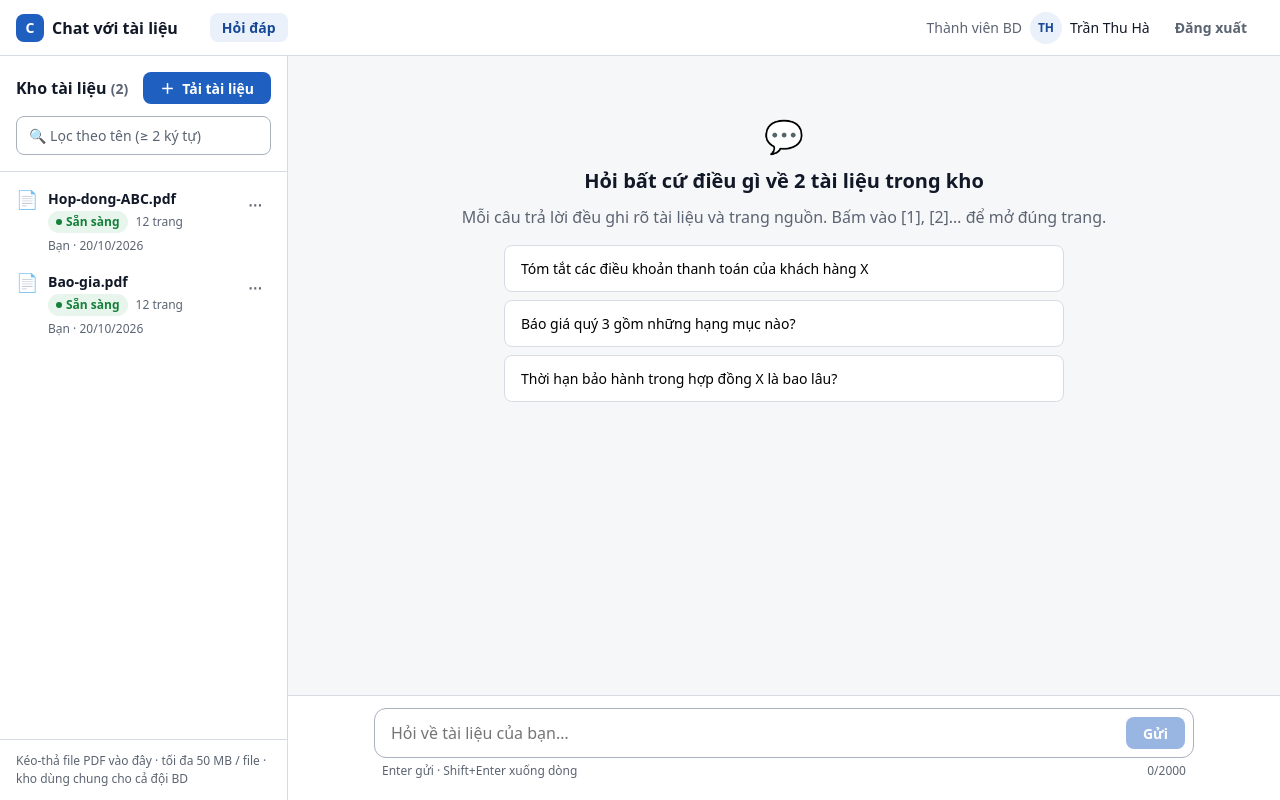
US-307 / US-309 copy and feedback › copies the answer with its sources; a blocked clipboard asks to copy by hand (AC-307.1, AC-307.2)
This screenshot has width=1280, height=800.
Type "Thanh toán?" into the text box named "Câu hỏi về tài liệu".
click(750, 733); type("Thanh toán?")  # box [383,717,1118,749]
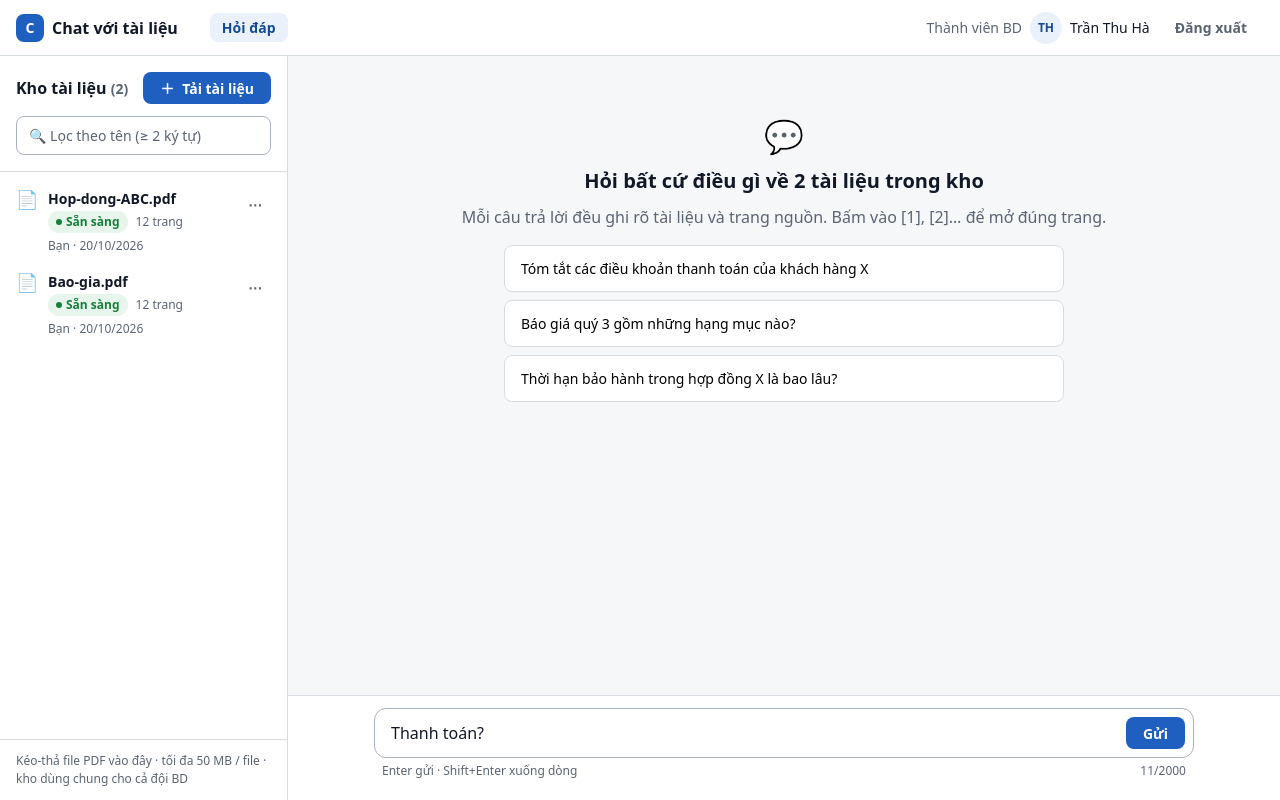
Press Enter in the text box named "Câu hỏi về tài liệu", box [383,717,1118,749]
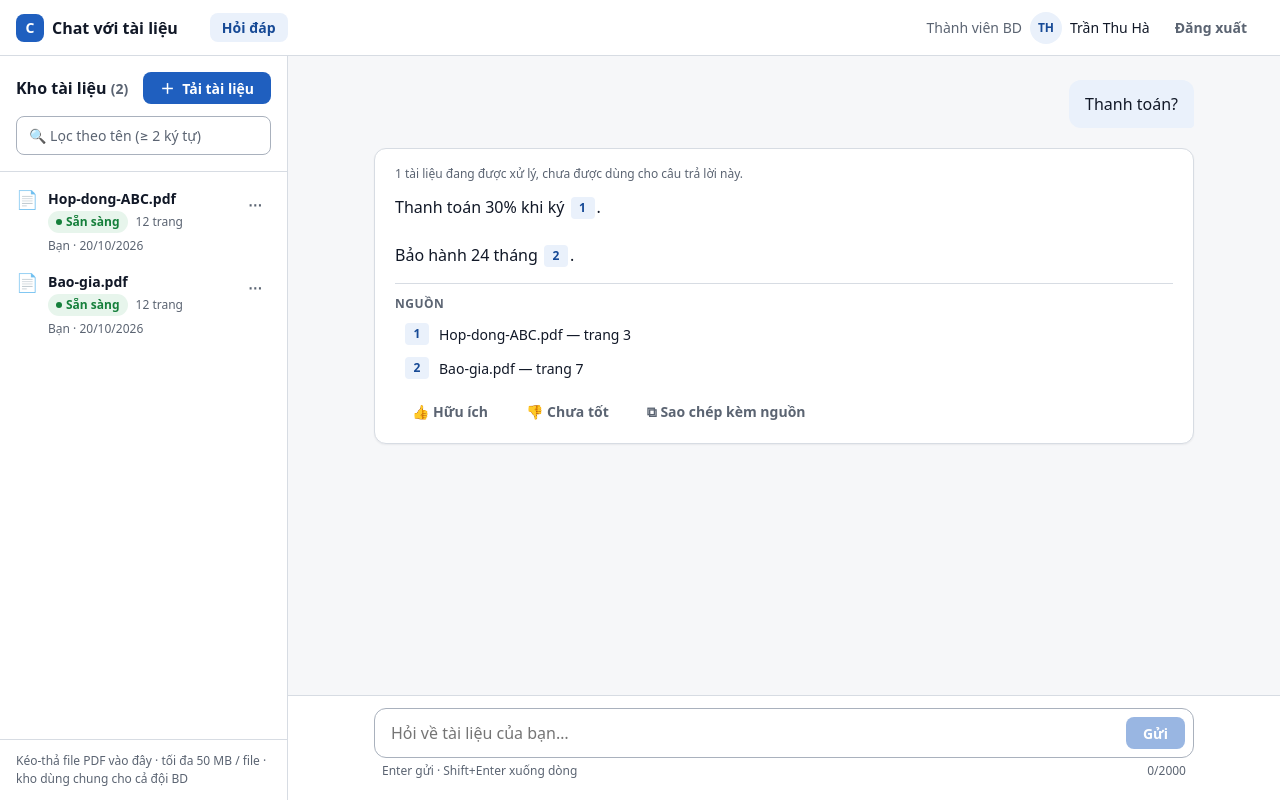
Click the button "⧉ Sao chép kèm nguồn".
click(726, 411)  # box [630,395,823,427]
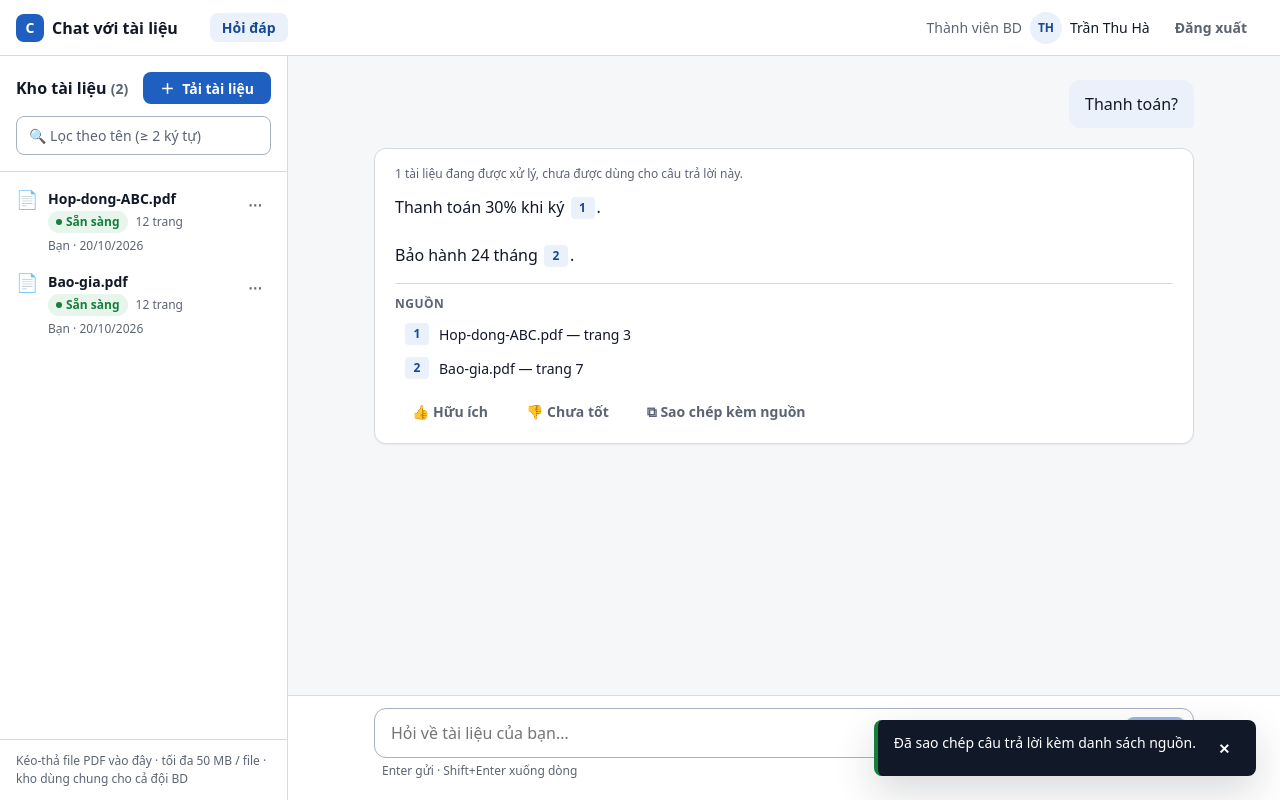
Click the button "⧉ Sao chép kèm nguồn".
click(726, 411)  # box [630,395,823,427]
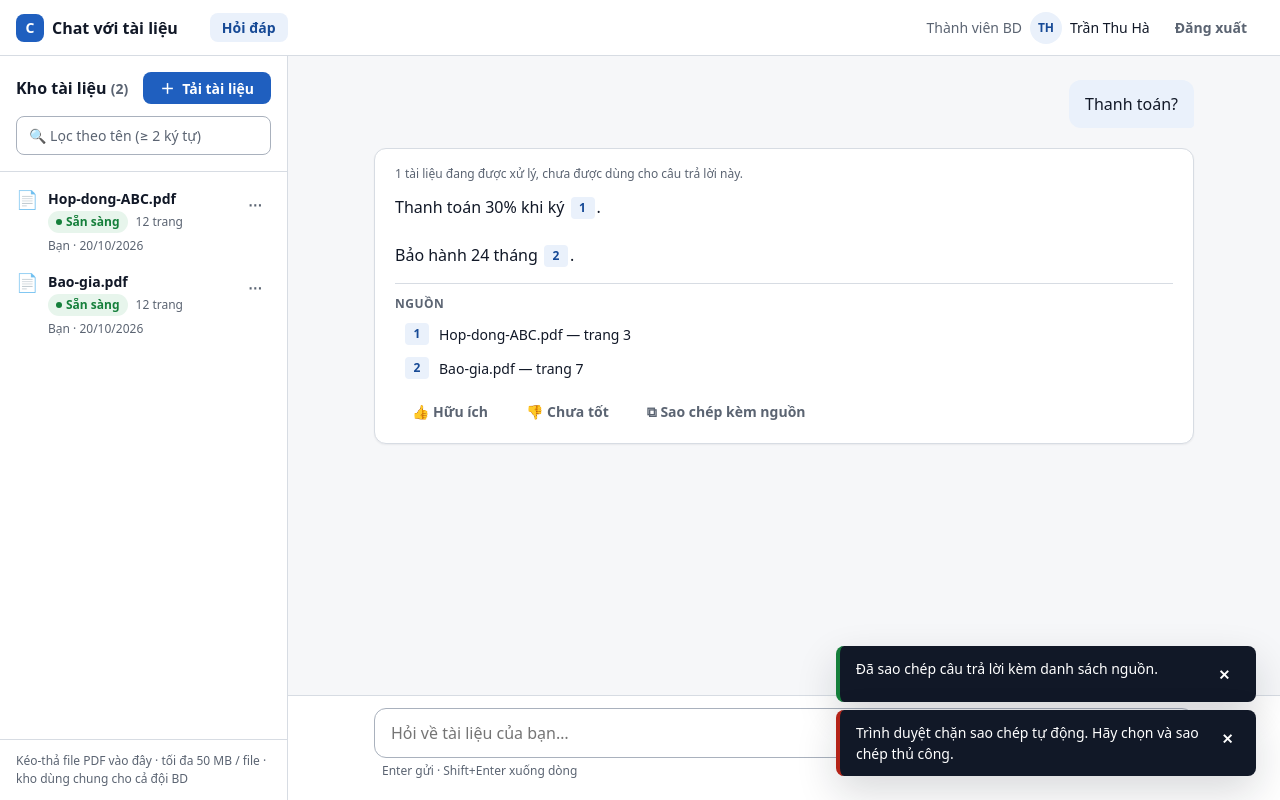
Expected: the text "Trình duyệt chặn sao chép tự động. Hãy chọn và sao chép thủ công." is shown, [856,722,1203,764]
